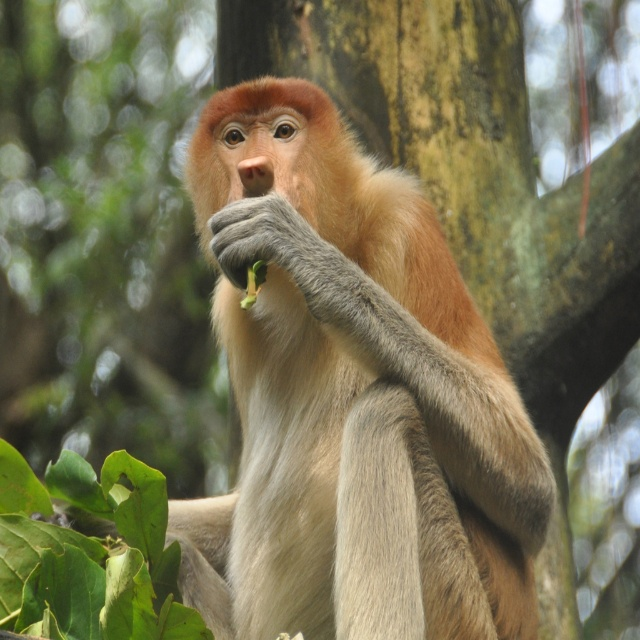Monkey: (166, 77, 559, 639)
